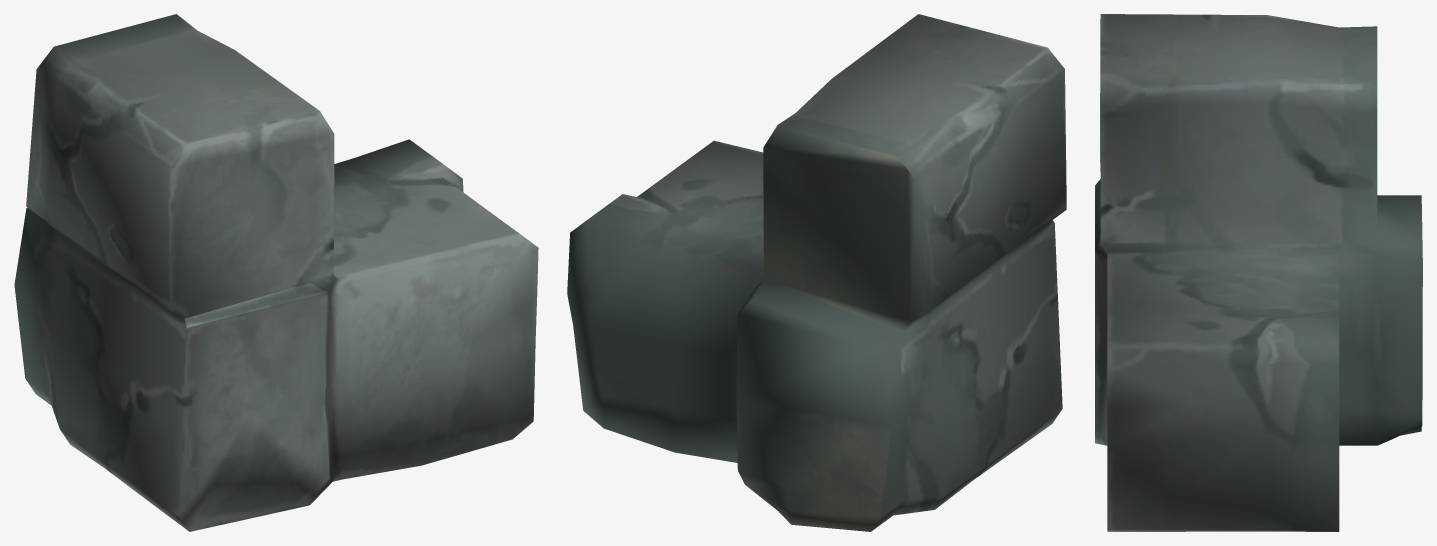
File: Floor_Block_E.fbx
3 renders of one model, left to right at view 1: azimuth 30°, elevation 25°; view 2: azimuth 150°, elevation 25°; view 3: azimuth 270°, elevation 25°, orthographic. The views are drawn at different scales.
Visible parts, largest first — view 1: Floor_Block_E; view 2: Floor_Block_E; view 3: Floor_Block_E.
Boxes of the visible parts, x1,y1,x2,y2 form: Floor_Block_E: [14, 14, 538, 531]; Floor_Block_E: [567, 14, 1066, 531]; Floor_Block_E: [1095, 14, 1422, 531].
Size of the model in its own units: 574 by 556 by 440.
